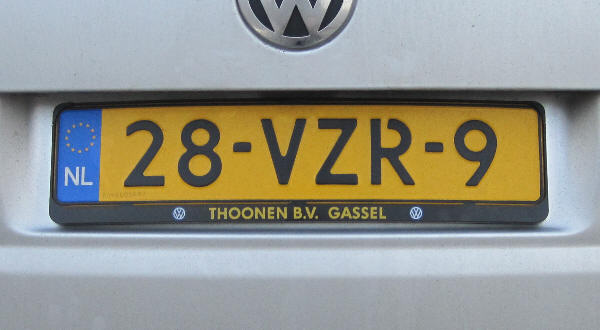license_plate: (55, 103, 543, 203)
